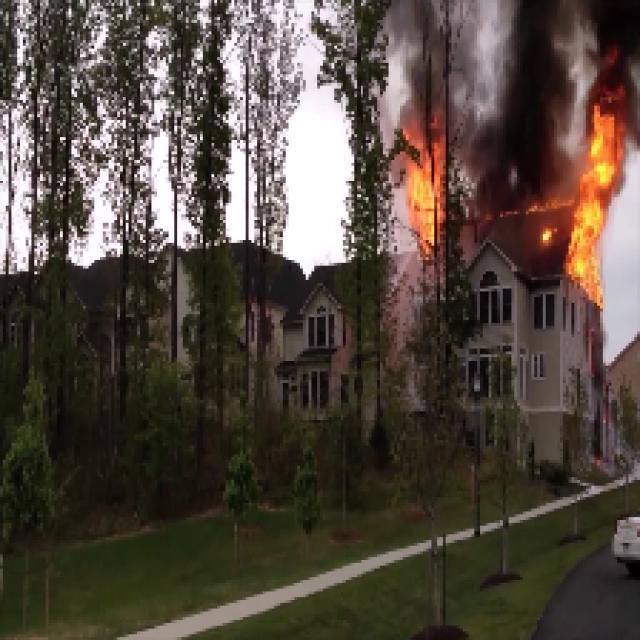Fire: (576, 108, 610, 290)
Smoke: (491, 4, 564, 198), (584, 7, 630, 102)
